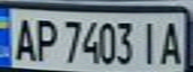0: (97, 18, 118, 66)
3: (115, 18, 139, 66)
4: (78, 17, 100, 65)
7: (57, 17, 81, 64)
A: (157, 17, 187, 66), (9, 14, 39, 63)
I: (136, 17, 163, 66)
P: (30, 15, 60, 63)
